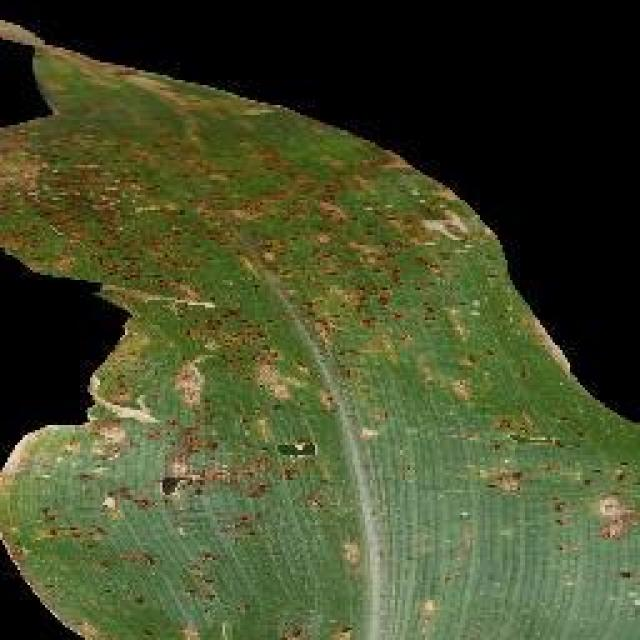Corn Common Rust: (84, 121, 564, 636)
